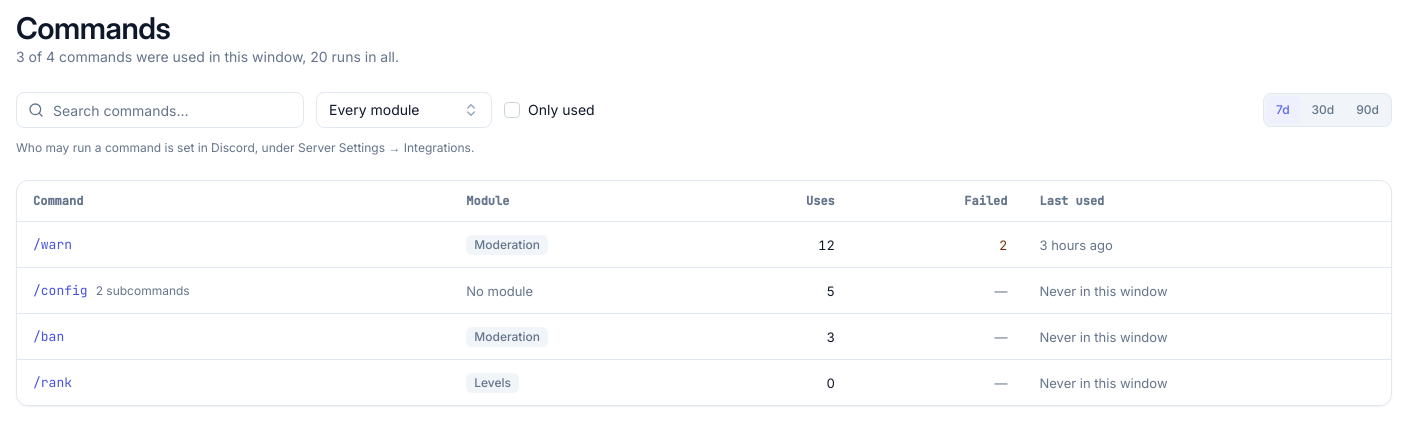
Test: CommandsScreen › hides the commands nobody ran when asked
Click the checkbox named "Only used". click: (512,110)
box: [504,102,520,118]
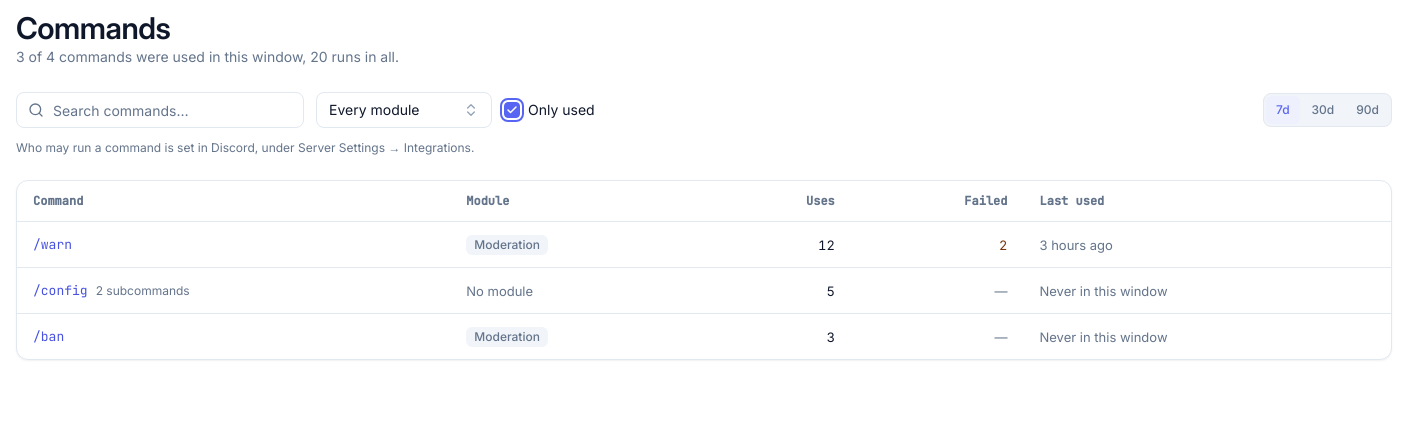
Expected: the button "/warn" is shown, [33,235,72,255]
Expected: the button "/rank" is gone
